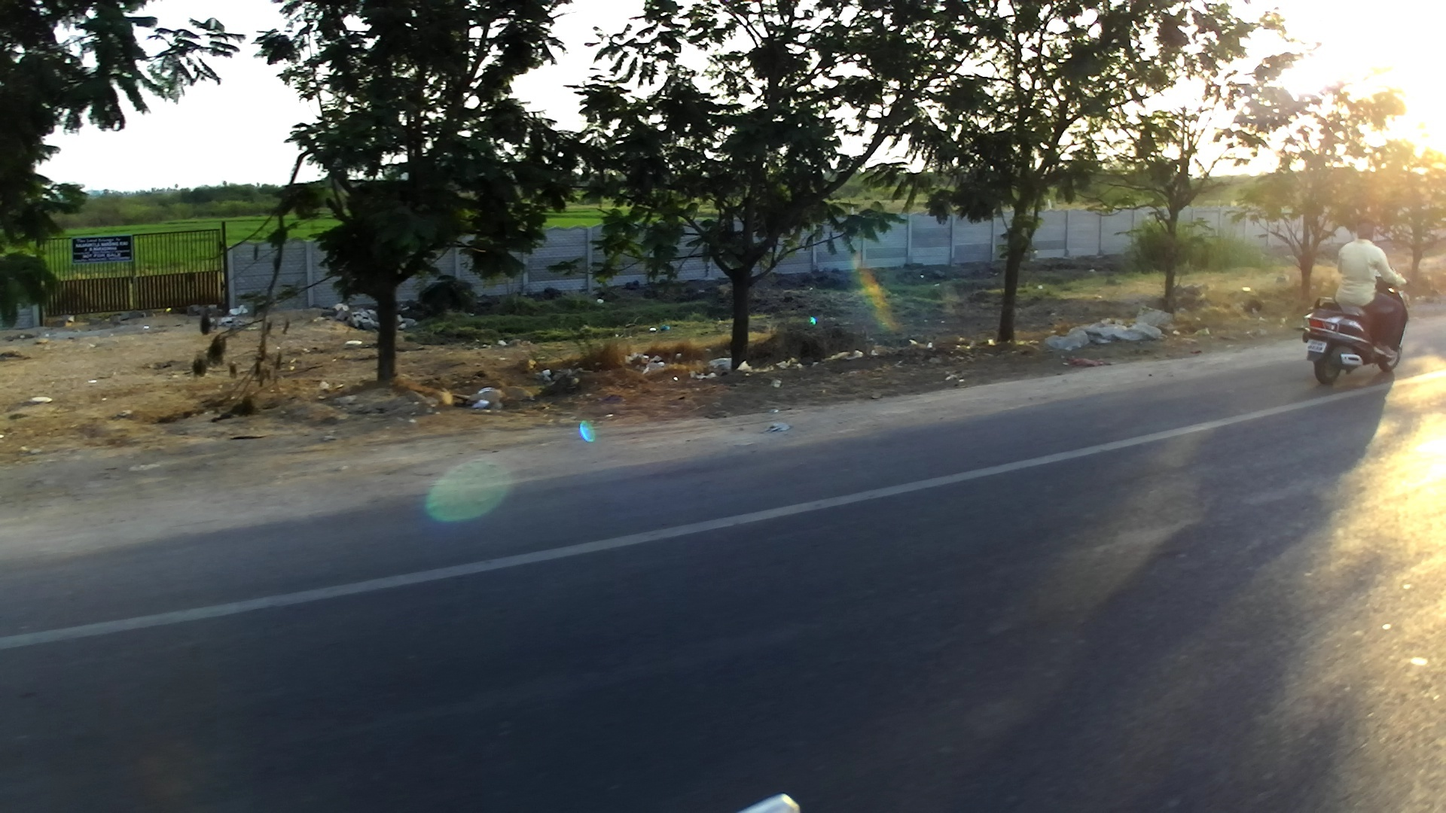motorcycle: (1295, 273, 1405, 385)
rider: (1336, 215, 1404, 361)
